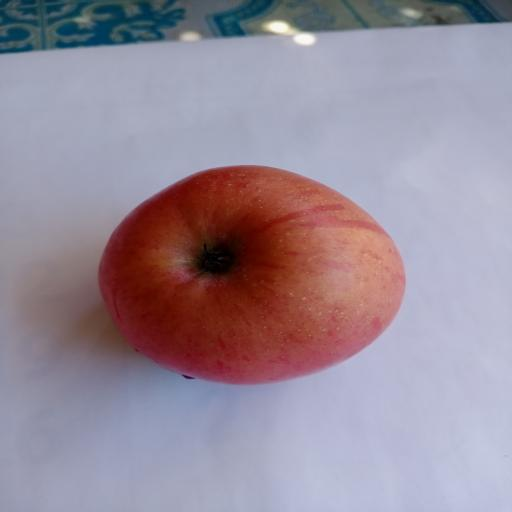apple-ripe: (59, 137, 435, 396)
